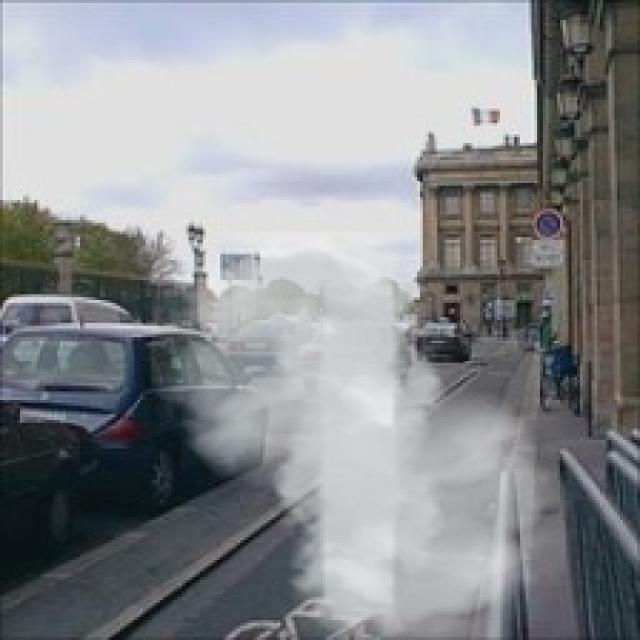smoke: (152, 232, 568, 637)
